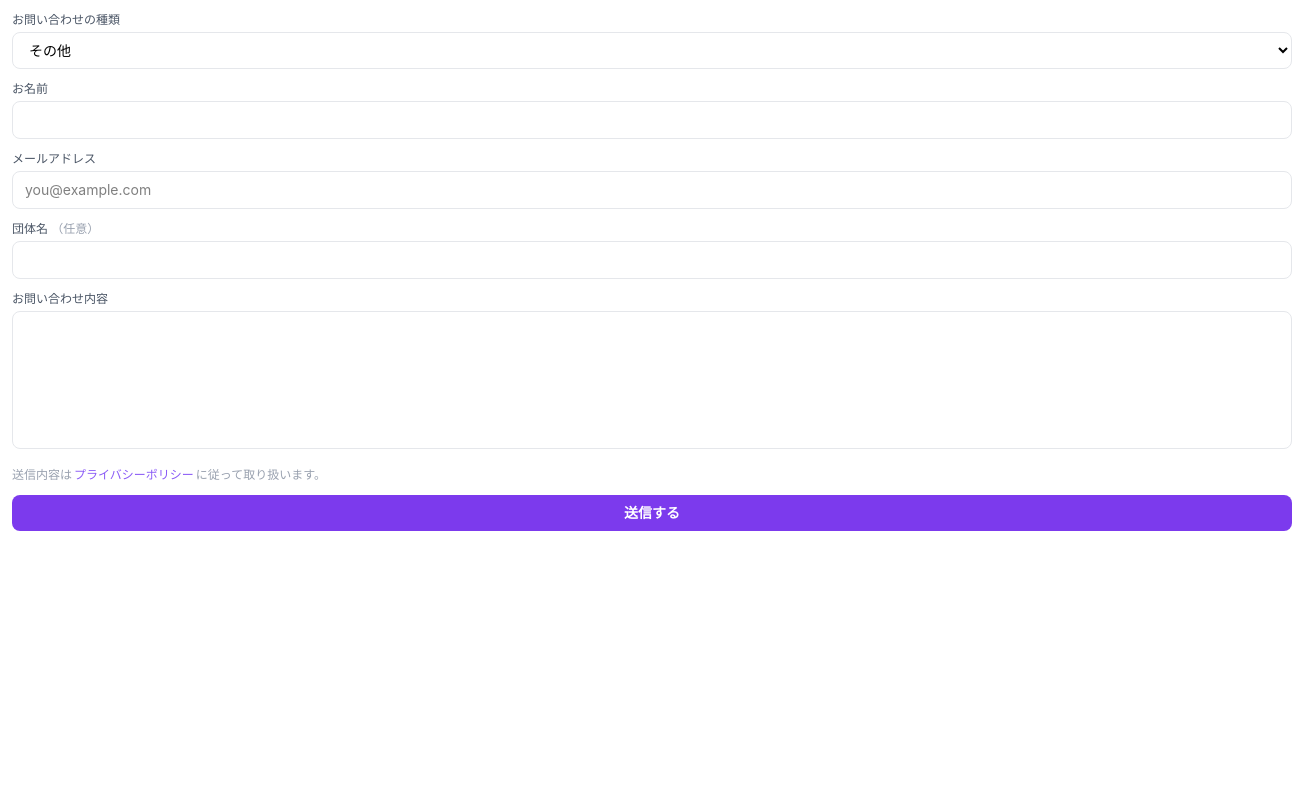
Test: InquiryForm › 必須項目が未入力の場合はエラーを表示し送信しない
Click the button "送信する" at point(652, 513), box [12,495,1292,531]
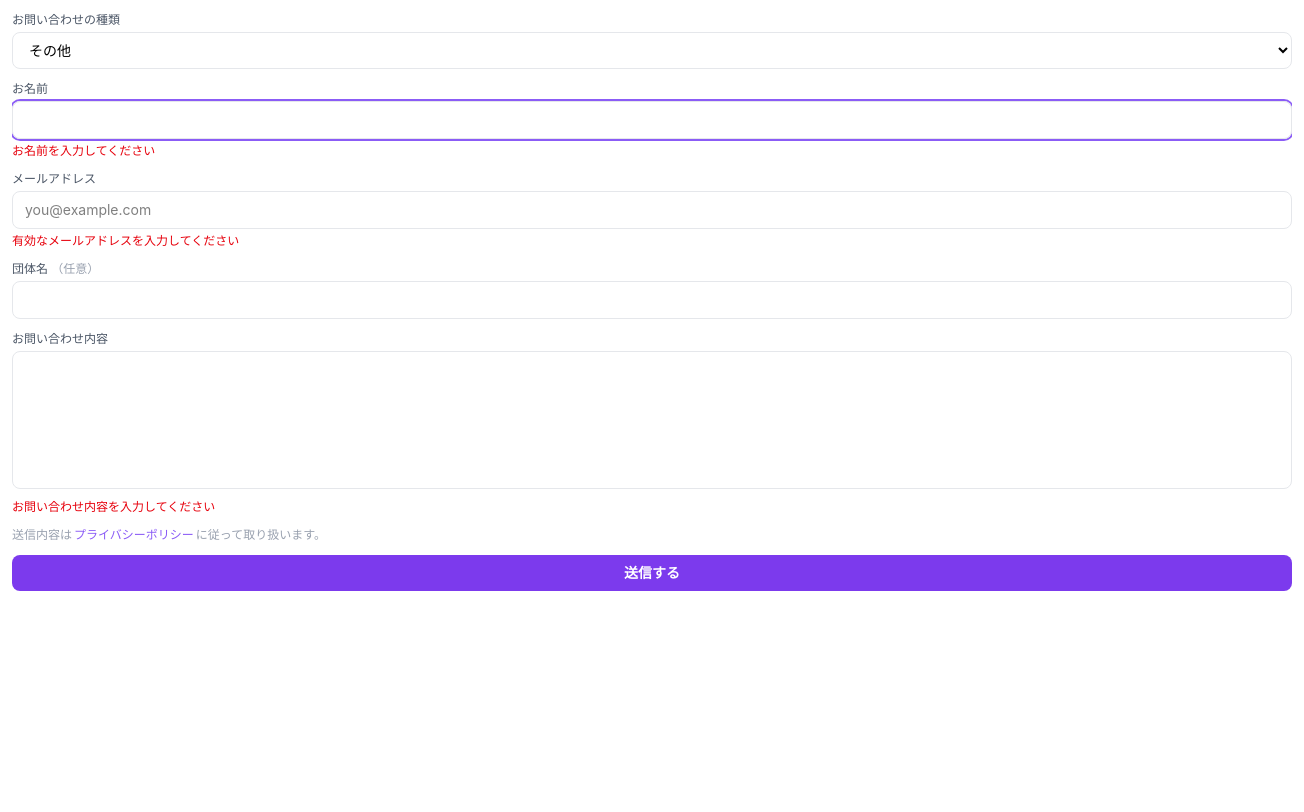
Expected: the text "お名前を入力してください" is shown, [12,143,155,158]
Expected: the text "有効なメールアドレスを入力してください" is shown, [12,233,239,248]
Expected: the text "お問い合わせ内容を入力してください" is shown, [12,499,215,514]
